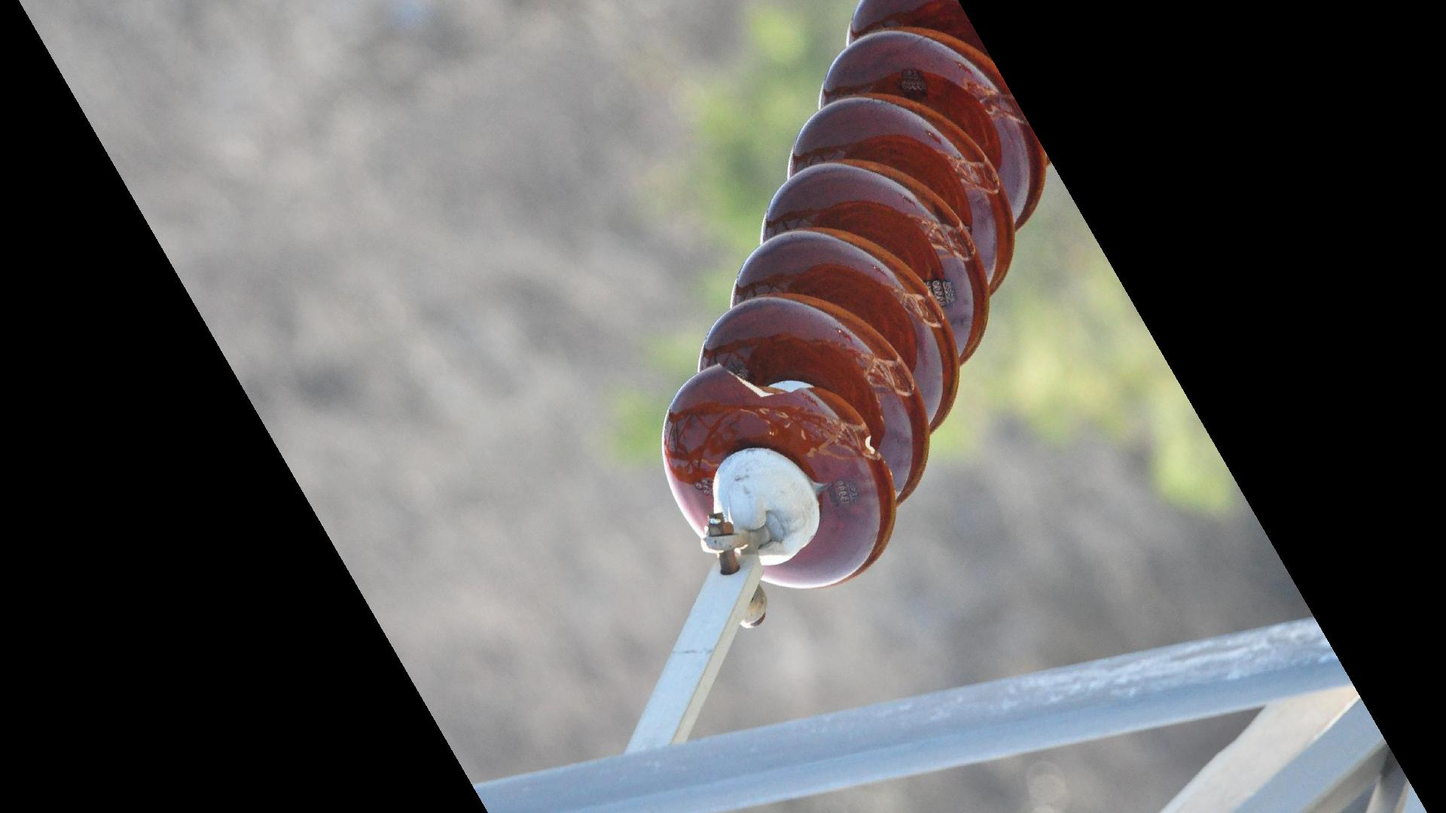insulator: (657, 8, 1059, 598)
insulator_breakage: (703, 354, 882, 455)
